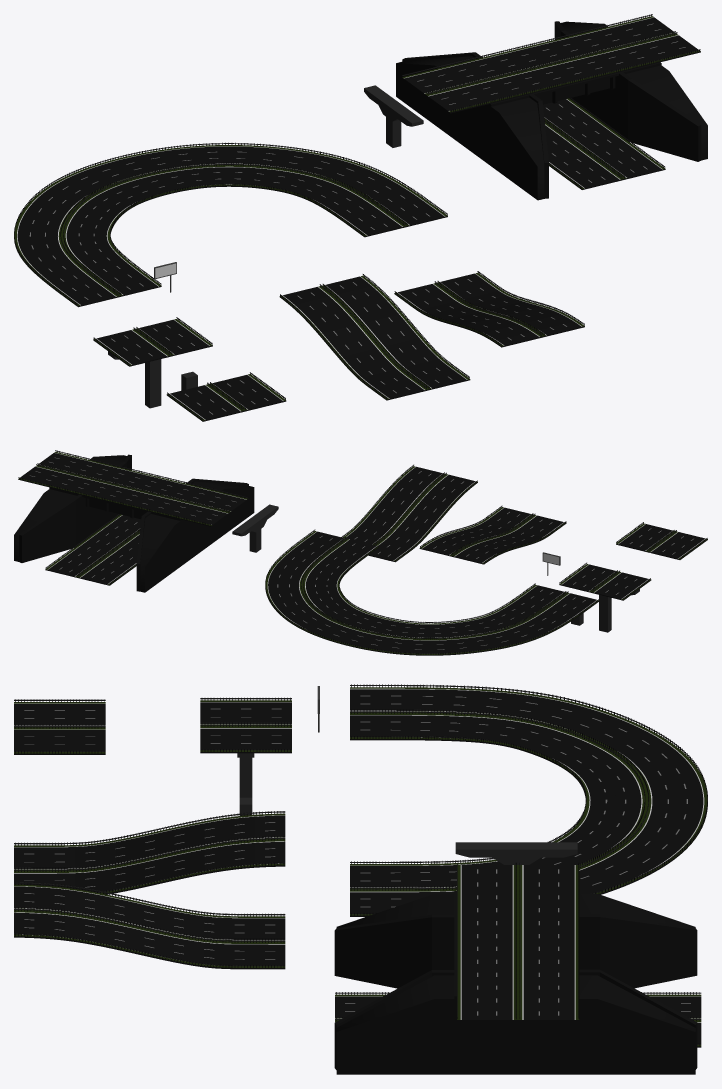
The model's file is highway pack.mtl.obj.
The picture shows the model from 3 angles, top to bottom: view 1: azimuth 30°, elevation 25°; view 2: azimuth 150°, elevation 25°; view 3: azimuth 270°, elevation 25°; orthographic projection. The views are drawn at different scales.
Visible parts, largest first — view 1: Cube.004_tahta, Cube.026_Material.035, Cube.030_Material.035, Cube.007_Material.035, Cube.023_Material.035, Cube.028_Material.035, Cube.010_Material.035, Cube.022_Material.035, Cube.030_Material.040, Cube.030_metal, Cube.029_Material.003, Cube.007_Material.040 (+9 smaller); view 2: Cube.004_tahta, Cube.026_Material.035, Cube.030_Material.035, Cube.023_Material.035, Cube.007_Material.035, Cube.028_Material.035, Cube.022_Material.035, Cube.010_Material.035, Cube.030_Material.040, Cube.030_metal, Cube.029_Material.003, Cube.023_Material.040 (+10 smaller); view 3: Cube.026_Material.035, Cube.004_tahta, Cube.030_Material.035, Cube.023_Material.035, Cube.007_Material.035, Cube.010_Material.035, Cube.022_Material.035, Cube.030_Material.040, Cube.029_Material.003, Cube.023_Material.040, Cube.023_metal, Cube.007_Material.040 (+13 smaller).
Boxes of the visible parts, x1,y1,x2,y2 form: Cube.004_tahta: [14, 142, 447, 307]; Cube.026_Material.035: [396, 21, 707, 200]; Cube.030_Material.035: [402, 17, 700, 113]; Cube.007_Material.035: [279, 276, 470, 400]; Cube.023_Material.035: [394, 273, 584, 347]; Cube.028_Material.035: [543, 99, 665, 189]; Cube.010_Material.035: [93, 319, 212, 366]; Cube.022_Material.035: [166, 375, 286, 421]; Cube.030_Material.040: [402, 16, 700, 112]; Cube.030_metal: [402, 14, 700, 111]; Cube.029_Material.003: [364, 85, 423, 147]; Cube.007_Material.040: [280, 275, 469, 399]; Cube.004_tahta: [265, 529, 599, 655]; Cube.026_Material.035: [14, 454, 254, 592]; Cube.030_Material.035: [18, 453, 248, 526]; Cube.023_Material.035: [346, 466, 477, 562]; Cube.007_Material.035: [419, 507, 566, 564]; Cube.028_Material.035: [45, 515, 141, 585]; Cube.022_Material.035: [616, 524, 707, 559]; Cube.010_Material.035: [559, 564, 651, 600]; Cube.030_Material.040: [18, 452, 247, 525]; Cube.030_metal: [18, 450, 247, 524]; Cube.029_Material.003: [232, 504, 278, 552]; Cube.023_Material.040: [343, 466, 477, 561]; Cube.026_Material.035: [334, 891, 697, 1074]; Cube.004_tahta: [350, 684, 707, 916]; Cube.030_Material.035: [457, 865, 579, 1021]; Cube.023_Material.035: [14, 886, 285, 969]; Cube.007_Material.035: [14, 815, 285, 894]; Cube.010_Material.035: [200, 702, 291, 753]; Cube.022_Material.035: [14, 704, 105, 754]; Cube.030_Material.040: [457, 865, 579, 1019]; Cube.029_Material.003: [455, 842, 577, 864]; Cube.023_Material.040: [14, 884, 285, 967]; Cube.023_metal: [14, 882, 285, 966]; Cube.007_Material.040: [14, 813, 285, 893].
Bounding box in the file's own units: 145 × 29.07 × 102.
